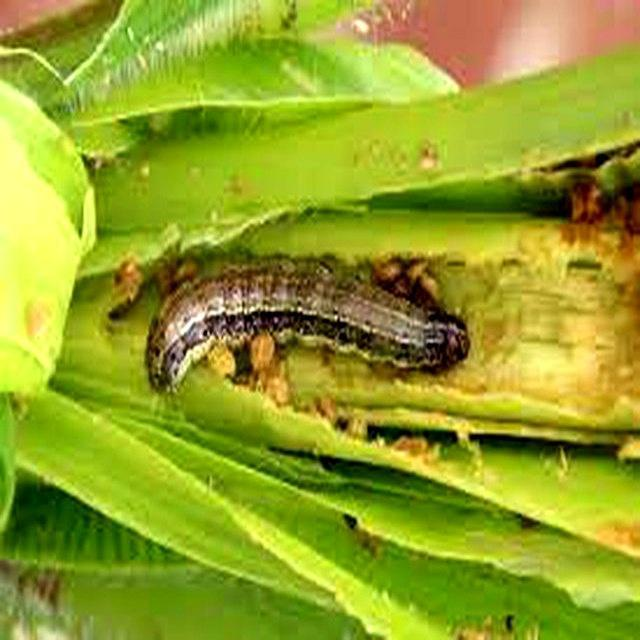gusano_cogollero: (142, 254, 476, 399)
